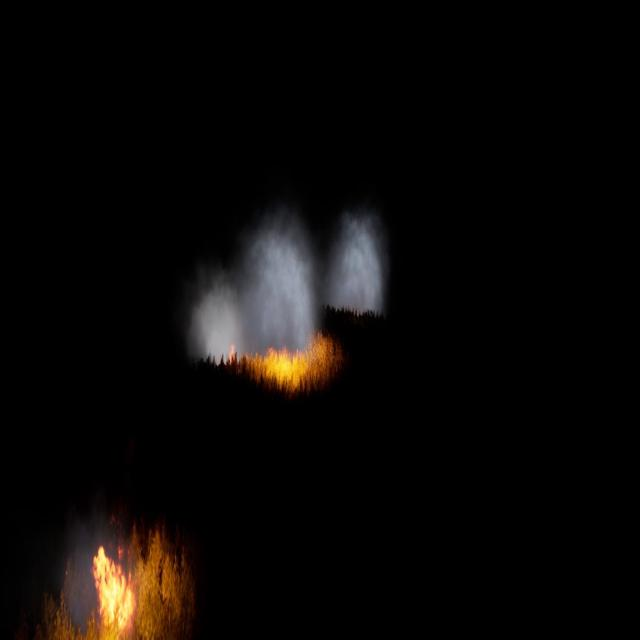fire: (228, 334, 345, 386), (94, 544, 139, 636)
smoke: (188, 194, 391, 372), (64, 507, 128, 625)
